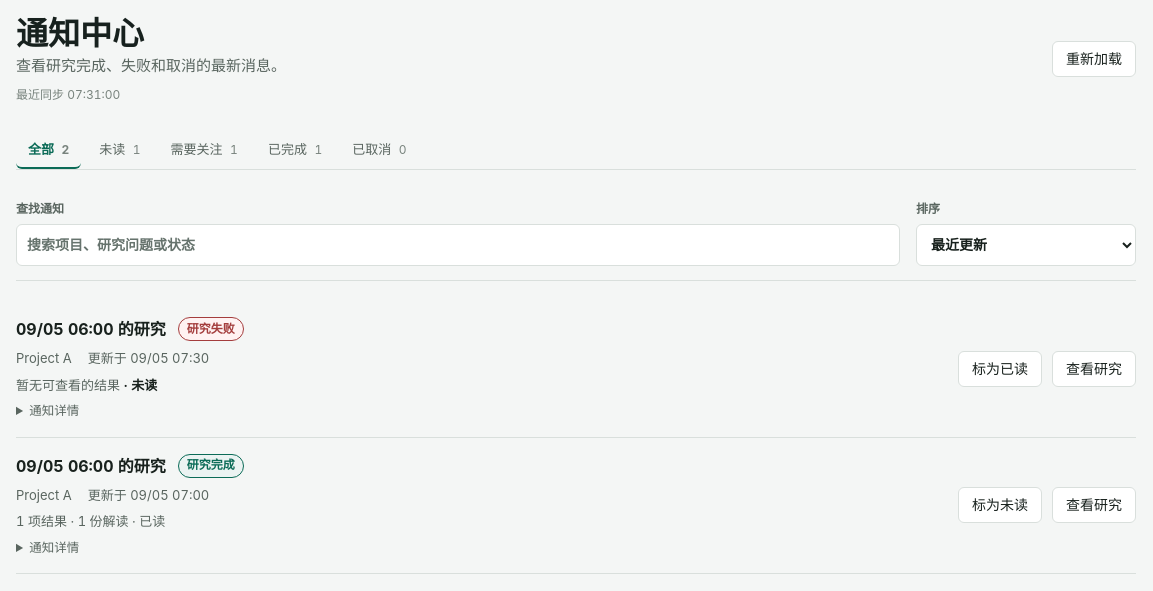
it: NotificationCenterPage › restores server-owned read state and persists read/unread transitions
This screenshot has width=1153, height=591.
Check: the text "研究失败" is shown, box [178, 317, 244, 341]
Check: the tab "未读 1" is shown, box [87, 131, 153, 169]
Click the button "标为已读" at (1000, 369), box [958, 351, 1042, 387]
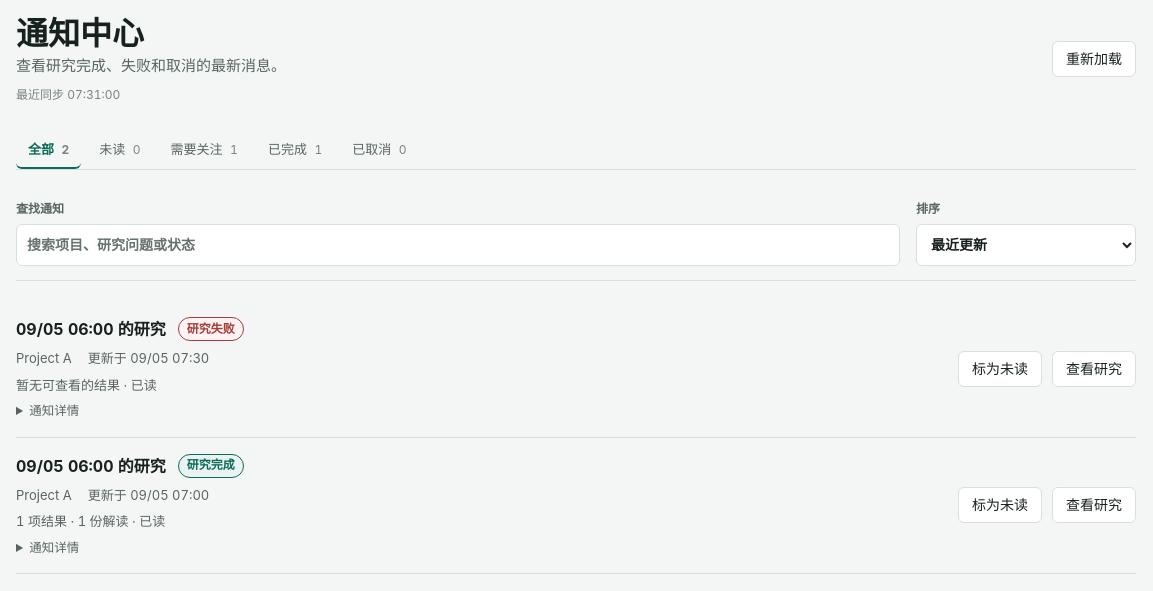
Check: the tab "未读 0" is shown, box [87, 131, 153, 169]
Click the button "标为未读" in the row of "09/05 07:00" at (1000, 506), box [958, 488, 1042, 524]
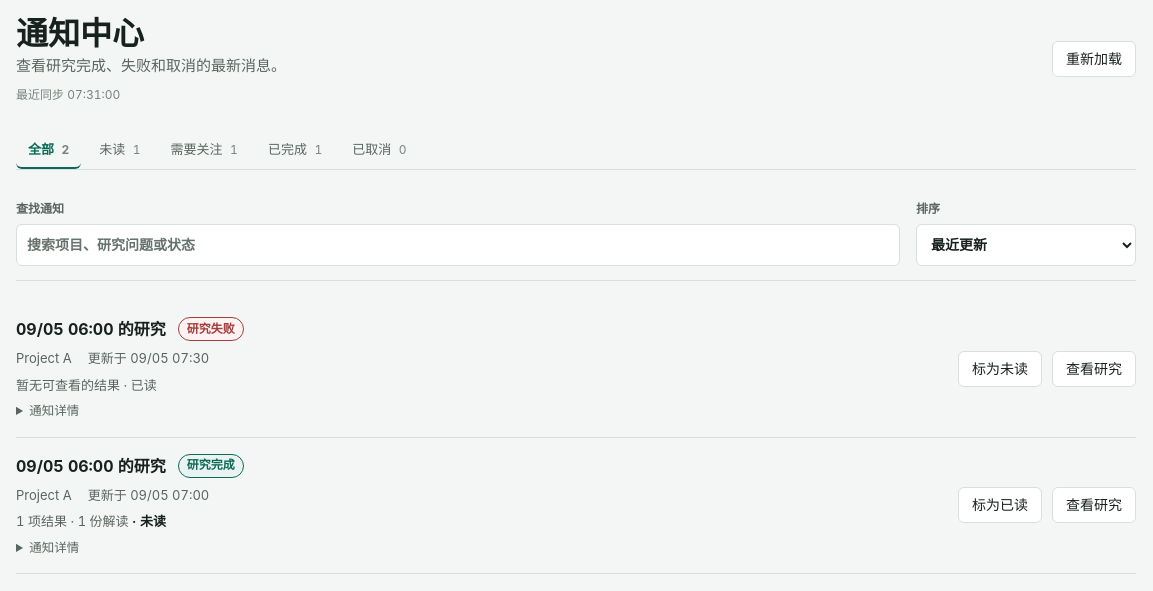
Check: the tab "未读 1" is shown, box [87, 131, 153, 169]
